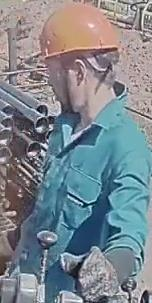gloves: (58, 245, 123, 303)
helmet: (37, 1, 118, 68)
vest: (11, 91, 152, 303)
